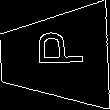P_W: (26, 37, 83, 76)
